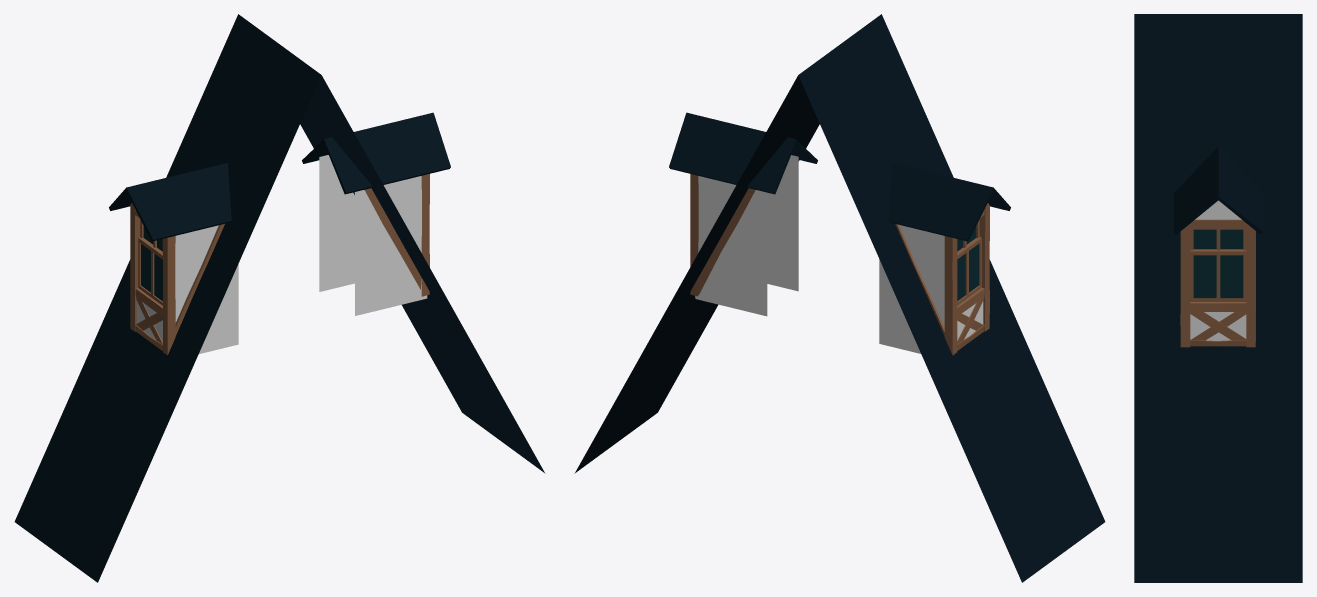
Rendered from RoofHighWindow.fbx.
3 renders of one model, left to right at view 1: azimuth 30°, elevation 25°; view 2: azimuth 150°, elevation 25°; view 3: azimuth 270°, elevation 25°, orthographic.
Visible parts, largest first — view 1: RoofHighWindow; view 2: RoofHighWindow; view 3: RoofHighWindow.
Boxes of the visible parts, x1=… form: RoofHighWindow: x1=14, y1=14, x2=545, y2=582; RoofHighWindow: x1=574, y1=14, x2=1105, y2=582; RoofHighWindow: x1=1134, y1=14, x2=1302, y2=582.
Bounding box in the file's own units: 620 × 600 × 200.
